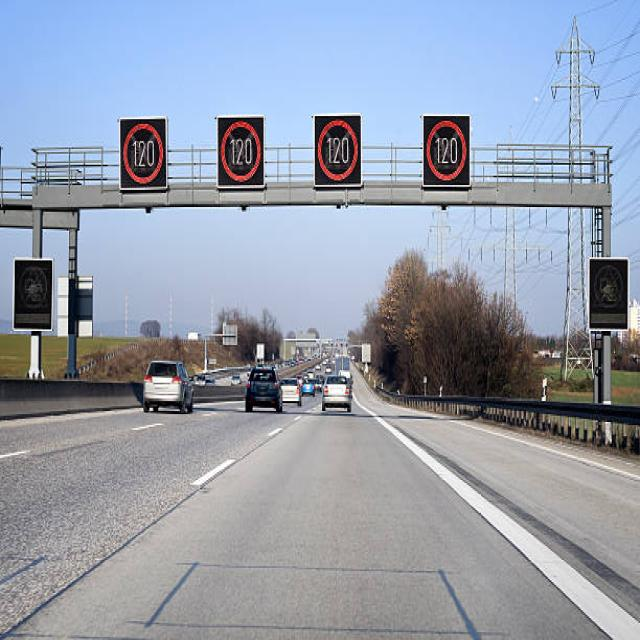Ad-signs: (422, 113, 471, 190), (118, 115, 167, 192), (312, 113, 362, 188), (216, 114, 264, 190), (588, 256, 628, 331)
Car: (141, 358, 195, 412), (244, 364, 282, 412)
